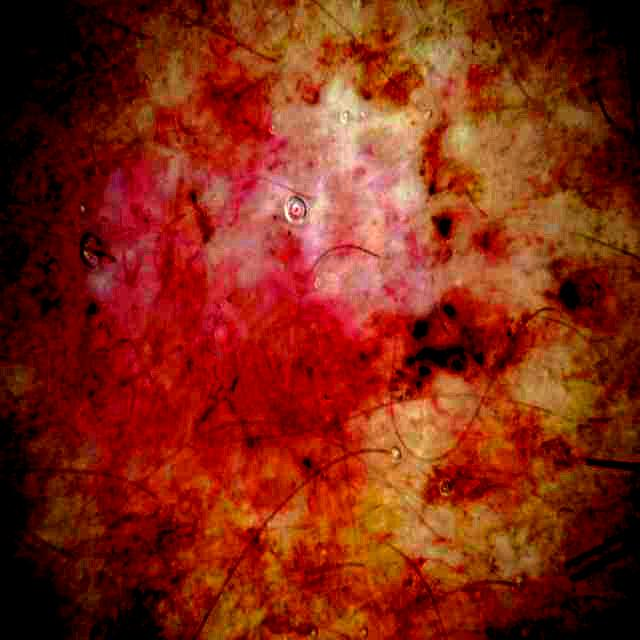BCC: (293, 247, 558, 419)
